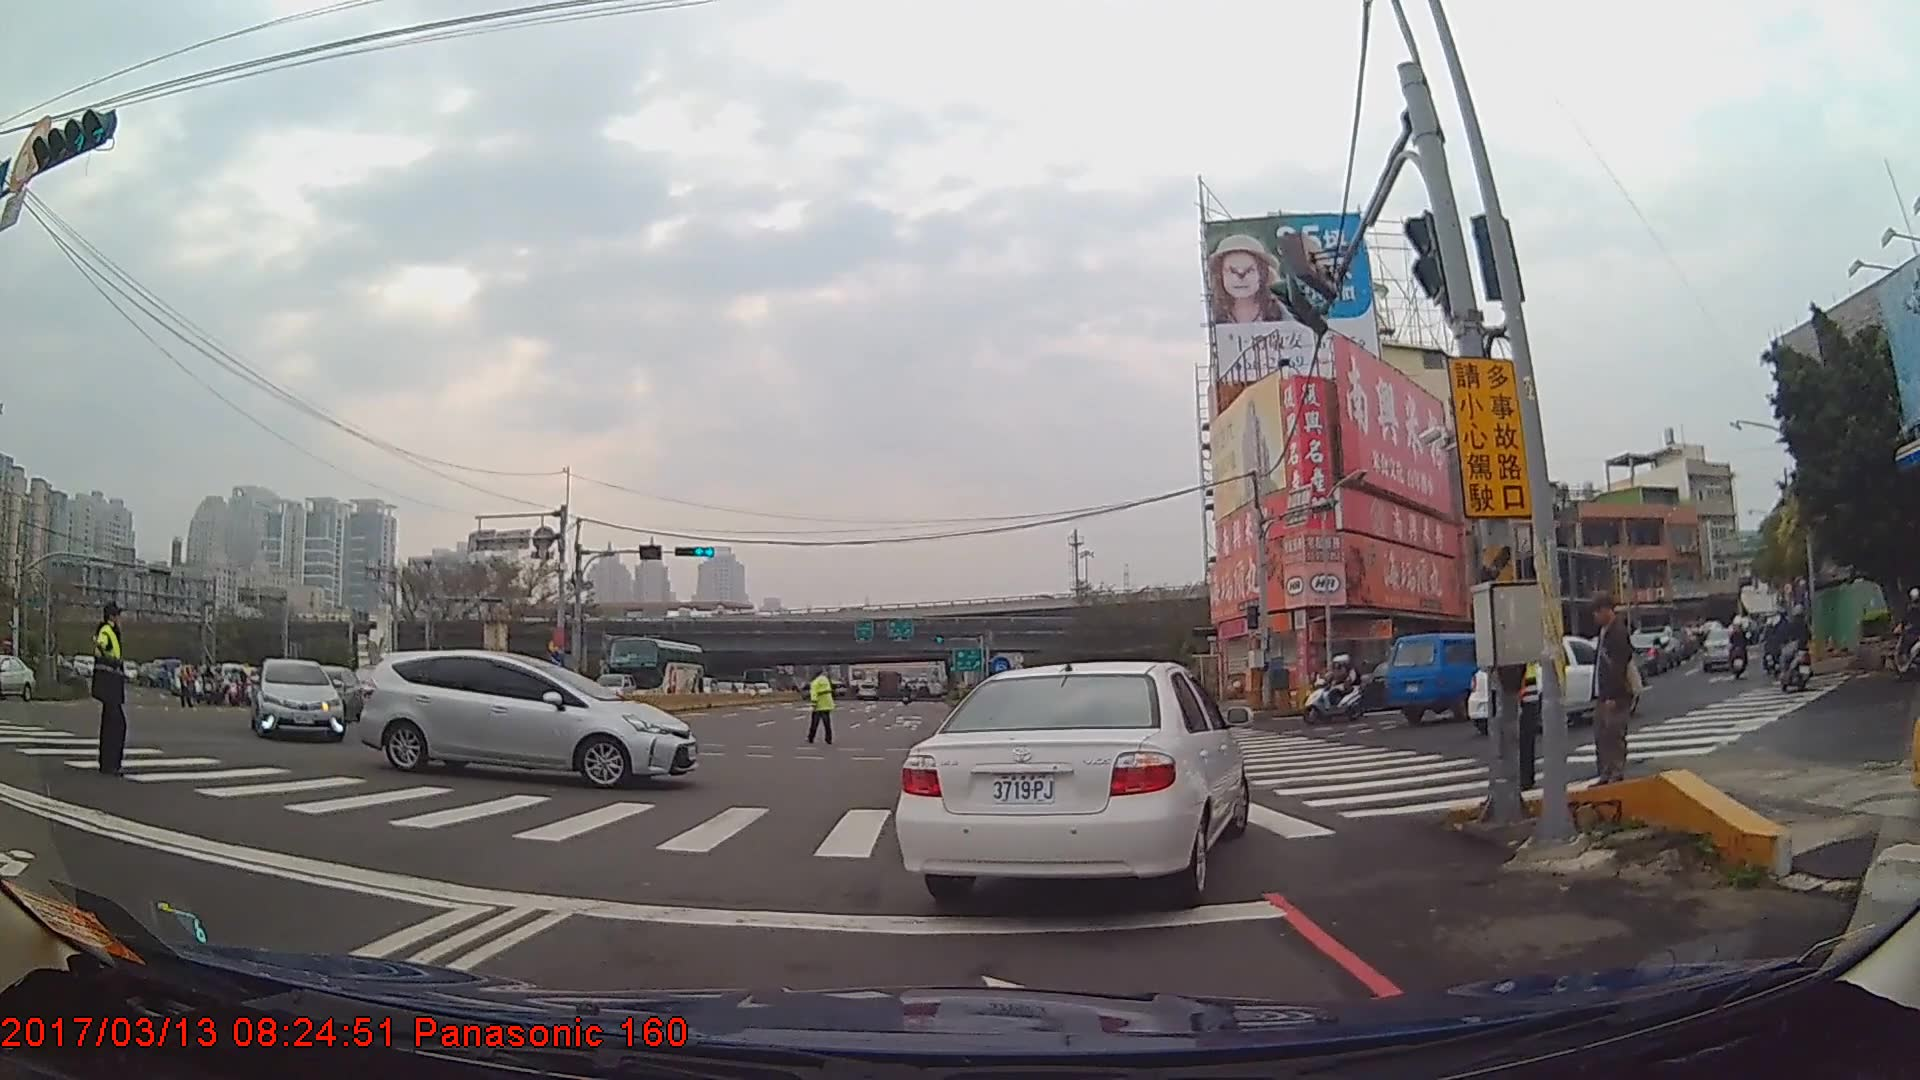pedestrian: (1579, 586, 1645, 796), (79, 599, 131, 781), (806, 665, 838, 747)
rider: (1301, 656, 1365, 730), (1777, 607, 1815, 694), (1892, 584, 1920, 679), (1773, 615, 1795, 682), (1729, 618, 1751, 682), (1762, 617, 1782, 676)
vehicle: (896, 660, 1251, 901), (355, 647, 699, 789), (1461, 635, 1636, 732), (1387, 630, 1545, 724), (250, 656, 346, 741), (601, 634, 704, 703), (1697, 624, 1745, 672), (1621, 631, 1667, 675), (0, 650, 38, 701)
